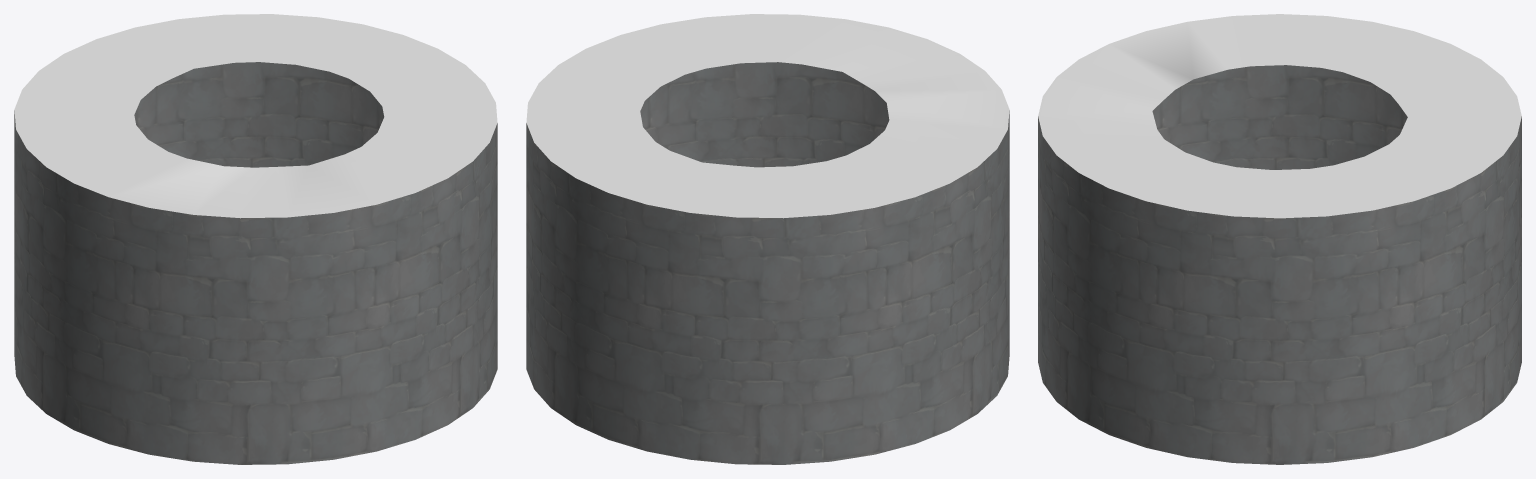
File: SM_TowerA_MidPavement.fbx
The picture shows the model from 3 angles, left to right: view 1: azimuth 30°, elevation 25°; view 2: azimuth 150°, elevation 25°; view 3: azimuth 270°, elevation 25°; orthographic projection.
Visible parts, largest first — view 1: SM_TowerA_MidPavement_LOD0; view 2: SM_TowerA_MidPavement_LOD0; view 3: SM_TowerA_MidPavement_LOD0.
Boxes of the visible parts, x1,y1,x2,y2 form: SM_TowerA_MidPavement_LOD0: [14, 14, 497, 464]; SM_TowerA_MidPavement_LOD0: [526, 14, 1009, 464]; SM_TowerA_MidPavement_LOD0: [1038, 14, 1521, 464].
Size of what is drawn, in the model's own units: 800 by 450 by 800.
